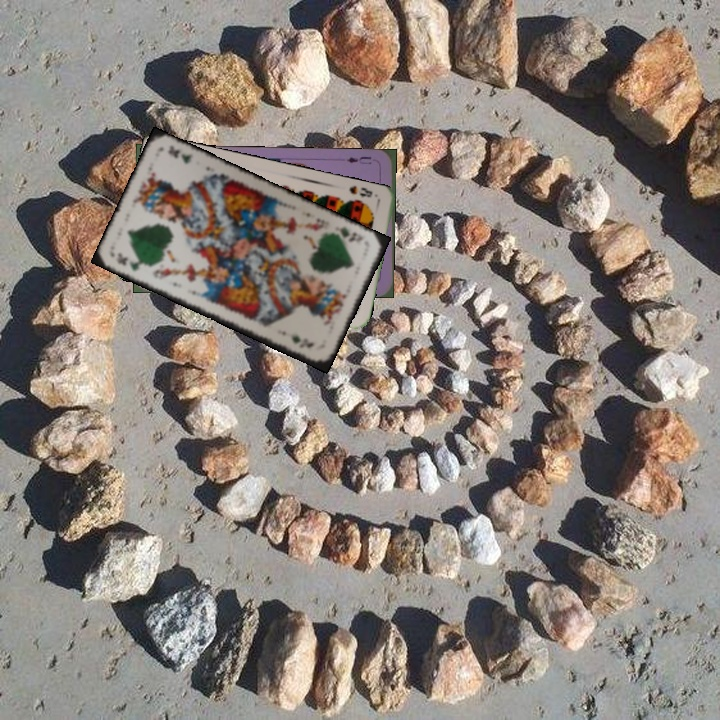EU: (343, 152, 374, 167)
GK: (112, 249, 150, 273), (329, 222, 365, 245)
S8: (345, 182, 375, 201)
